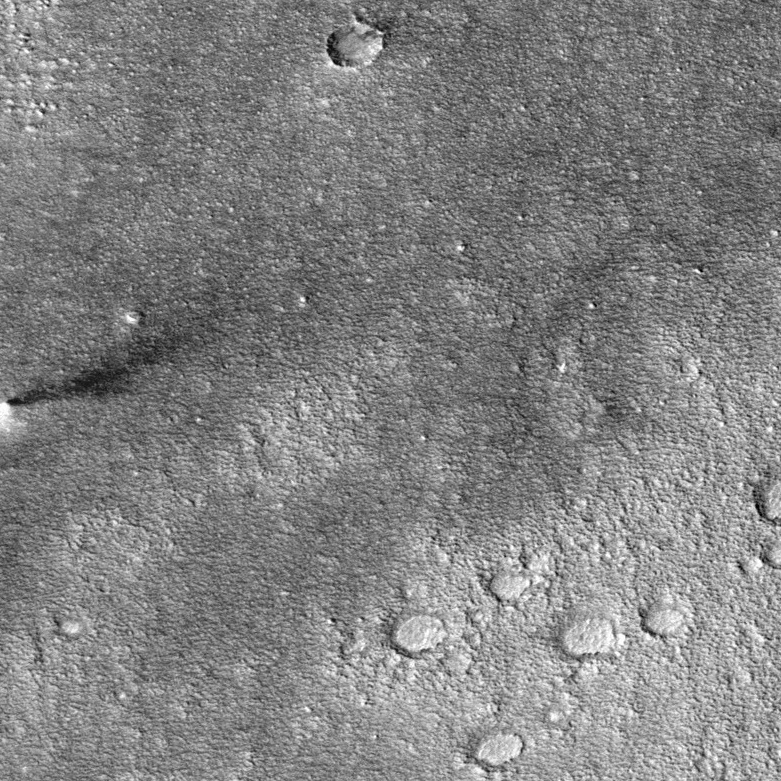dust_devil: (1, 316, 227, 432)
